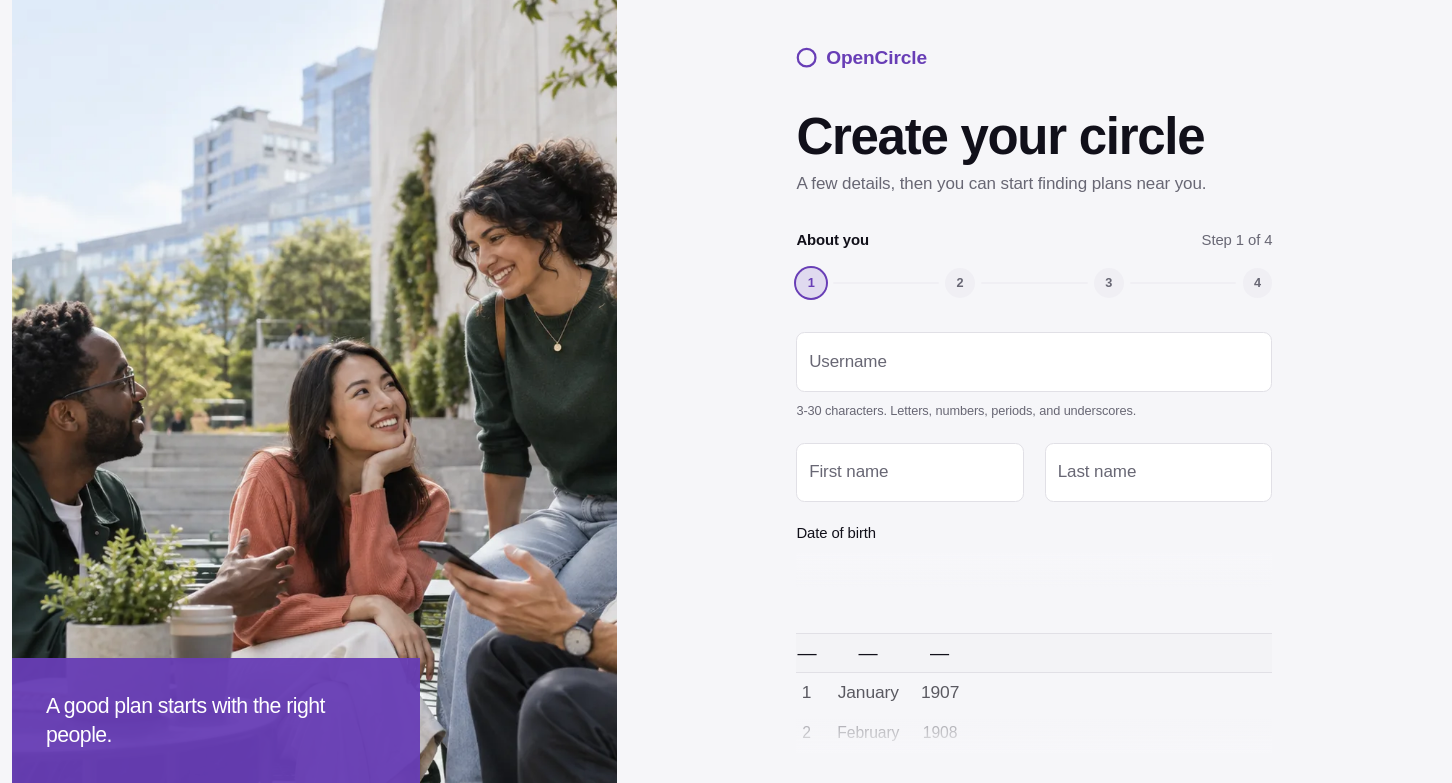
Test: SignupPage › rejects unsupported characters in first and last name
Type "maya.chen" into the field labelled "Username" at {"x": 1034, "y": 362}, box [796,332,1272,392]
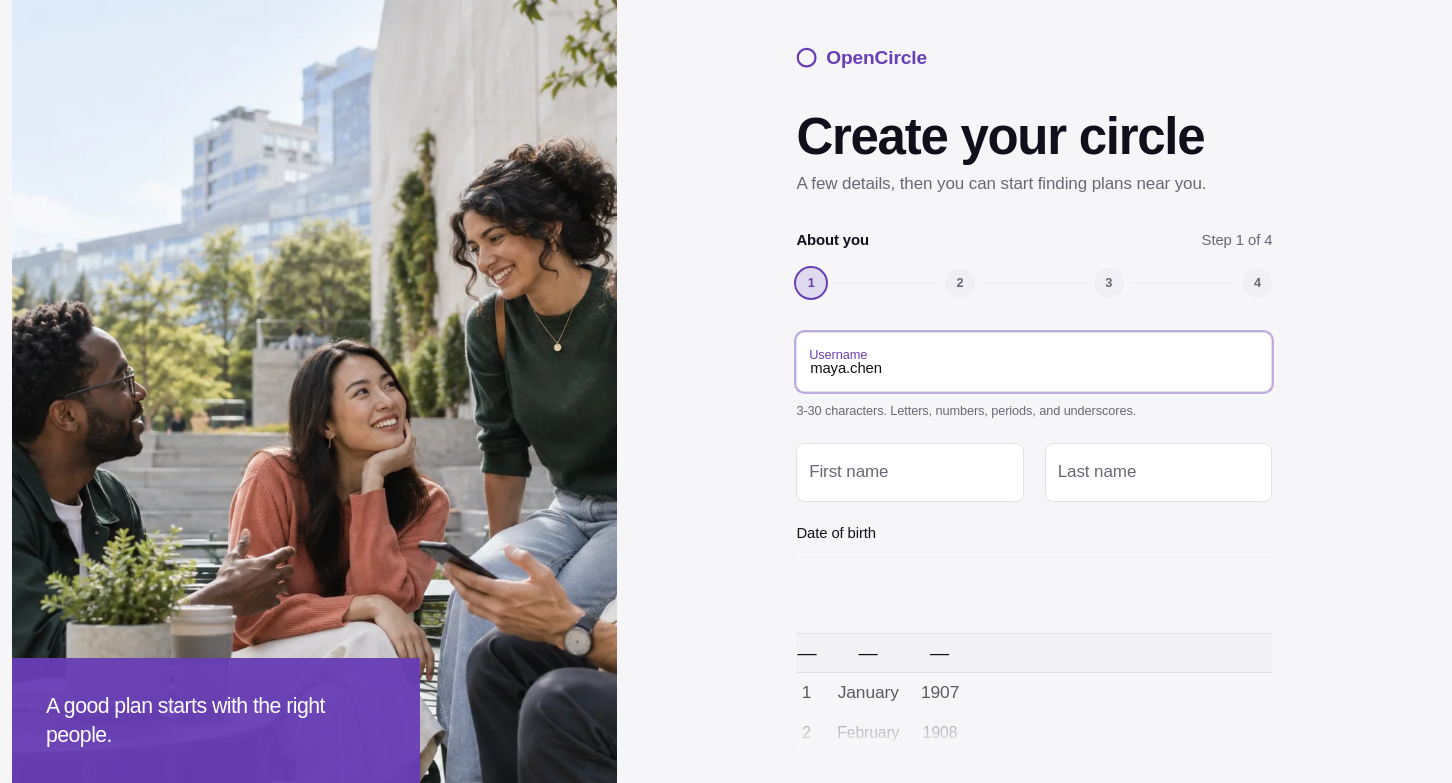
Type "Maya1" into the field labelled "First name" at {"x": 910, "y": 472}, box [796,442,1024,502]
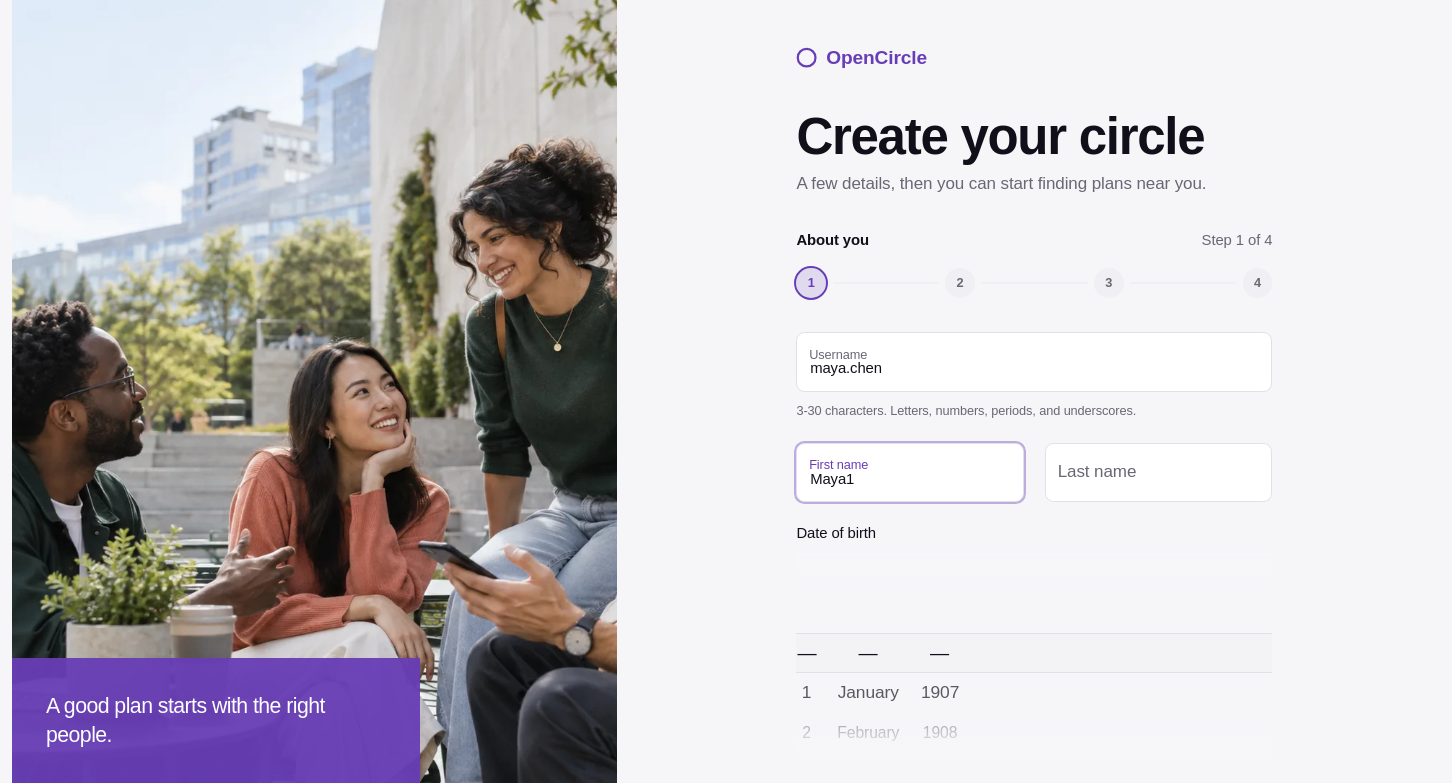
Type "Chen_Lee" into the field labelled "Last name" at {"x": 1159, "y": 472}, box [1045,442,1272,502]
(page scrolled)
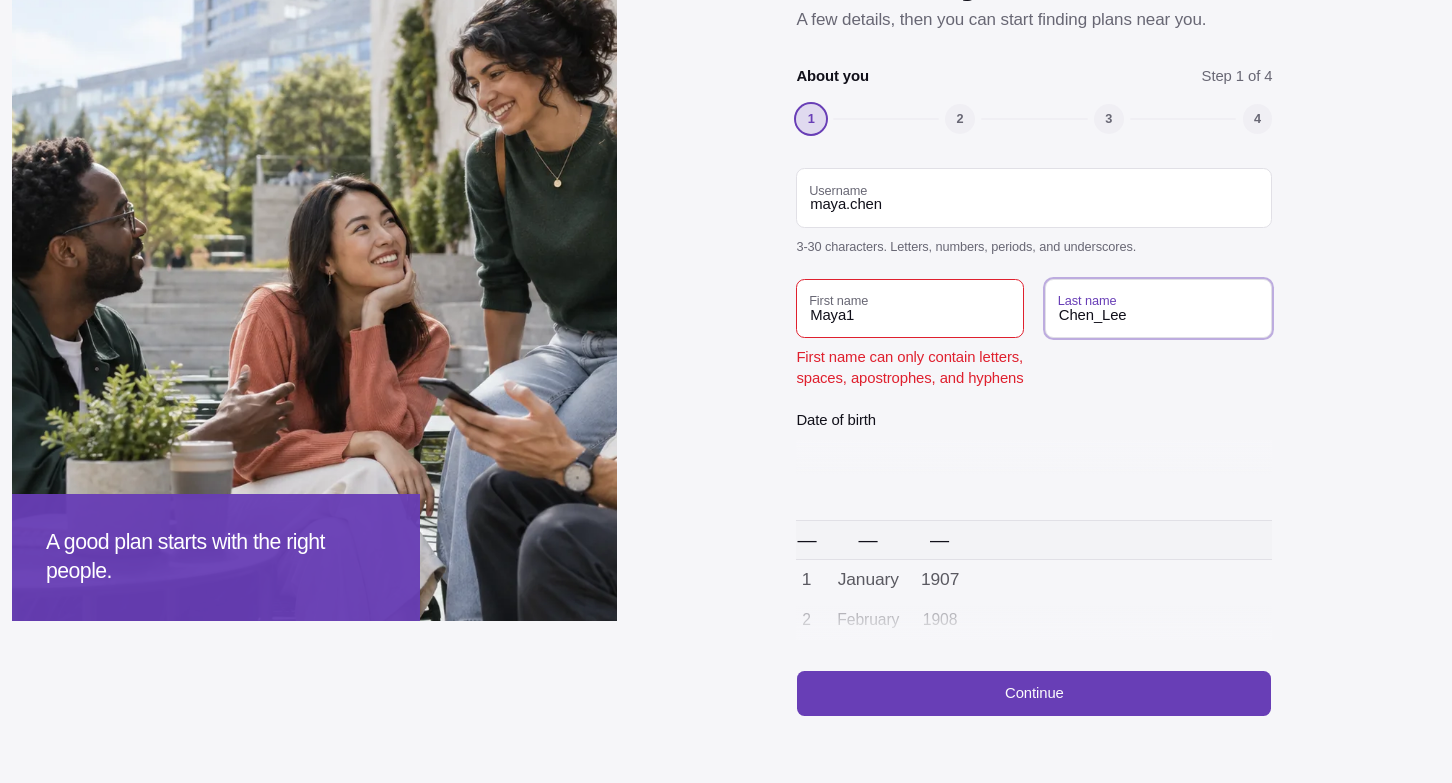
Click the button "Continue" at {"x": 1034, "y": 693}, box [796,670,1272,717]
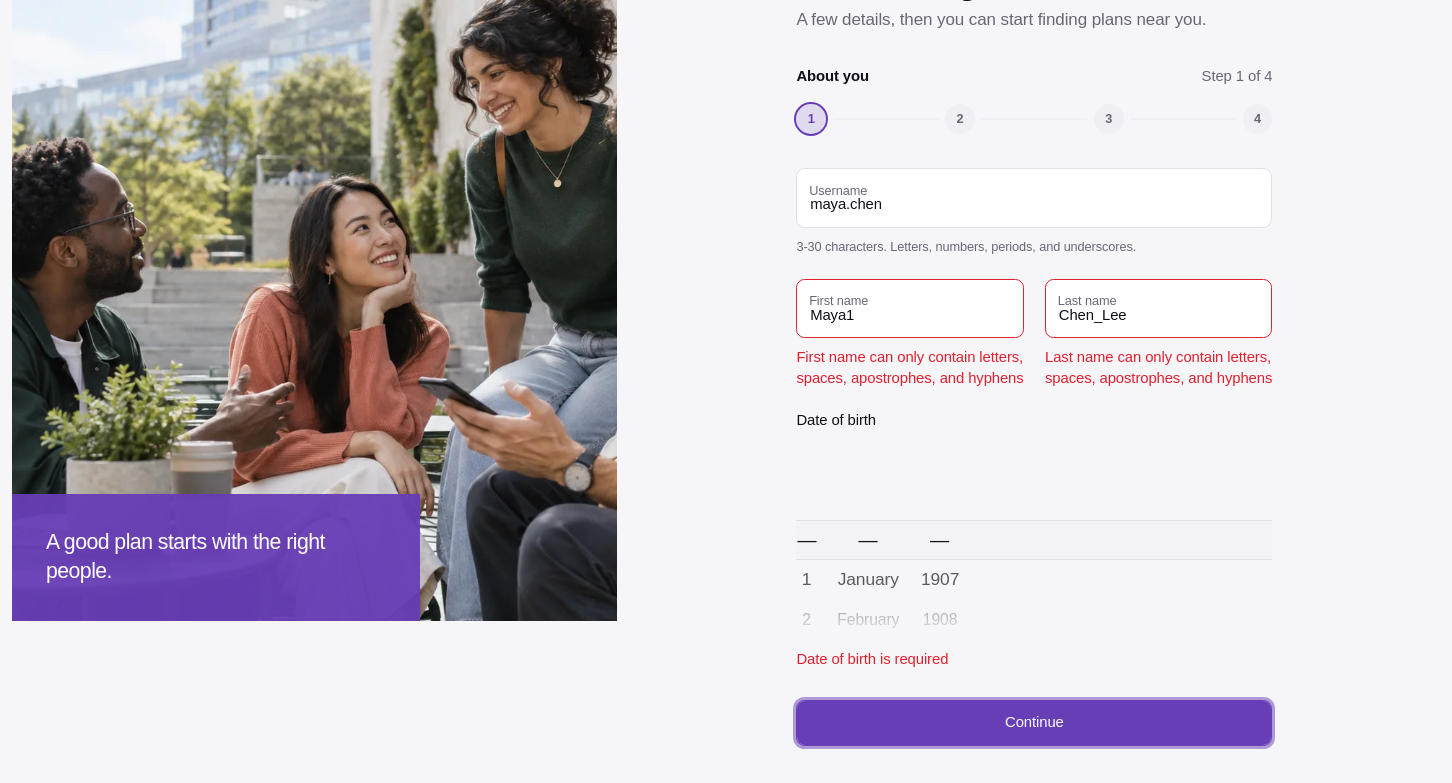
Expected: the text "Step 1 of 4" is shown, [1202,66,1272,87]
Now the text "First name can only contain letters, spaces, apostrophes, and hyphens" is shown, box [796,346,1024,389]
Now the text "Last name can only contain letters, spaces, apostrophes, and hyphens" is shown, box [1045,346,1272,389]
